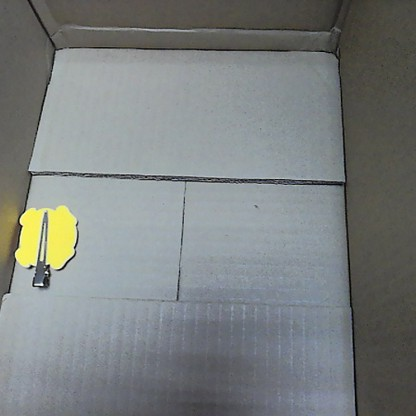dogclip: (16, 205, 79, 287)
